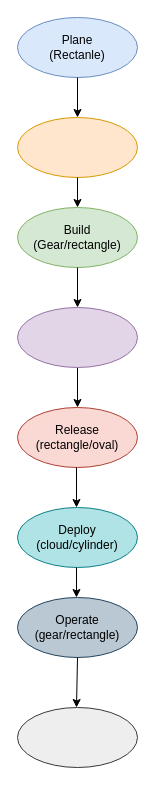
Image size: 155x785. Some labels were removed from this diagram. Here are the shapes that lost their labels. From the top down, the centre of each, then its label:
At [77,147]: "Develop (folder/rectangle)".
At [77,337]: "Test (Diamond)".
At [77,737]: "Monitor (parallelogram/cloud)".
